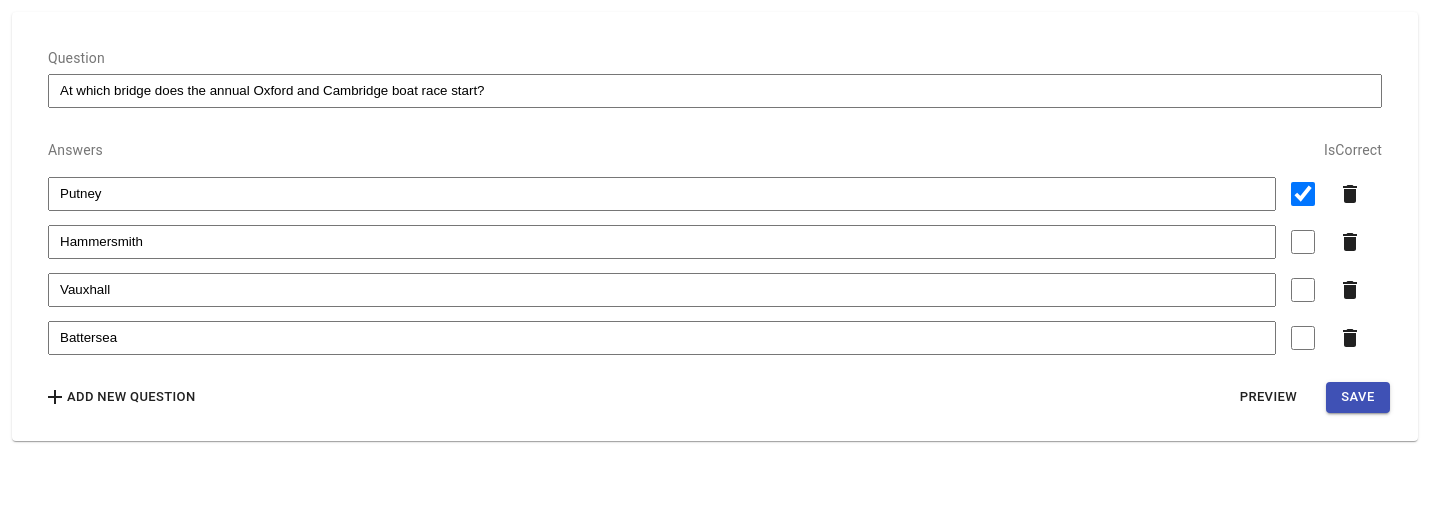
Question Editor › If an answer is empty, you should see the relevant error message.
The image size is (1436, 505).
# Set the first answer to the empty string
Clear the field with test id "answer-input-1": (662, 242) [48,225,1276,259]
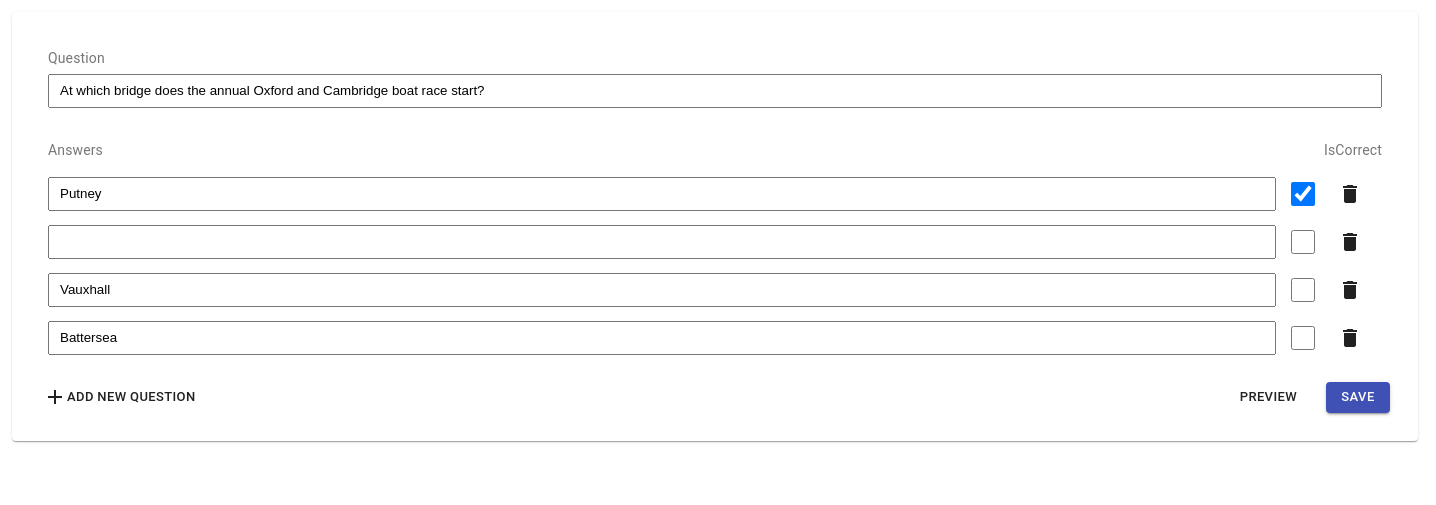
# click save button which has "submit-question" test id
Click the button with test id "submit-question": (1358, 397) [1326,382,1390,413]
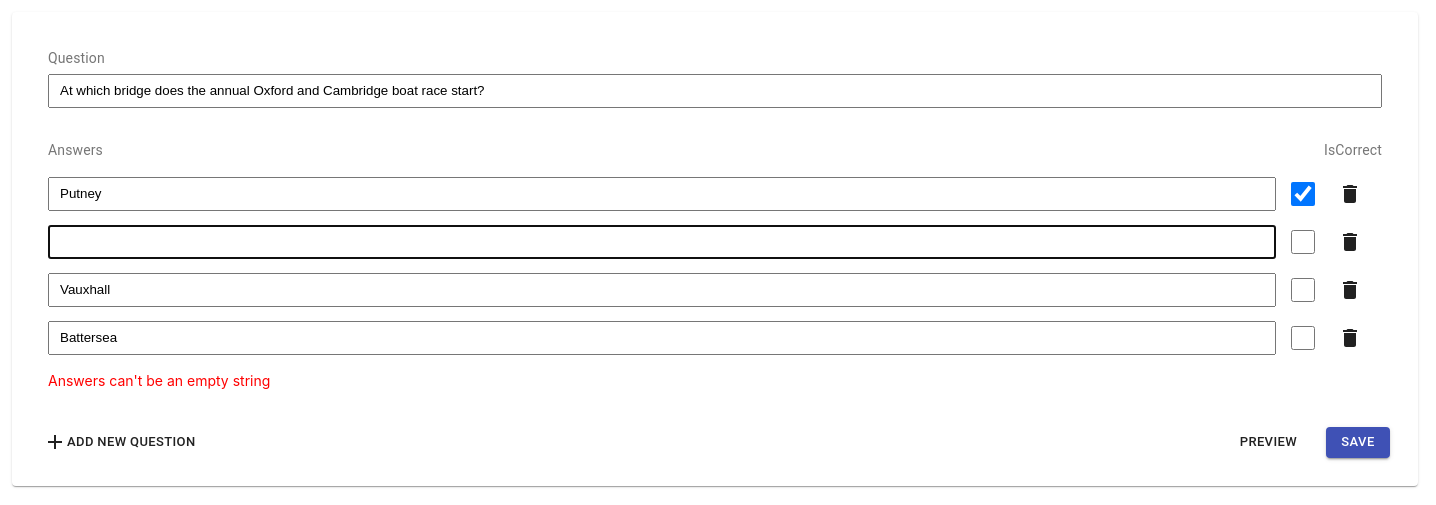
Expected: the text "Answers can't be an empty string" is shown, [48,372,270,389]
